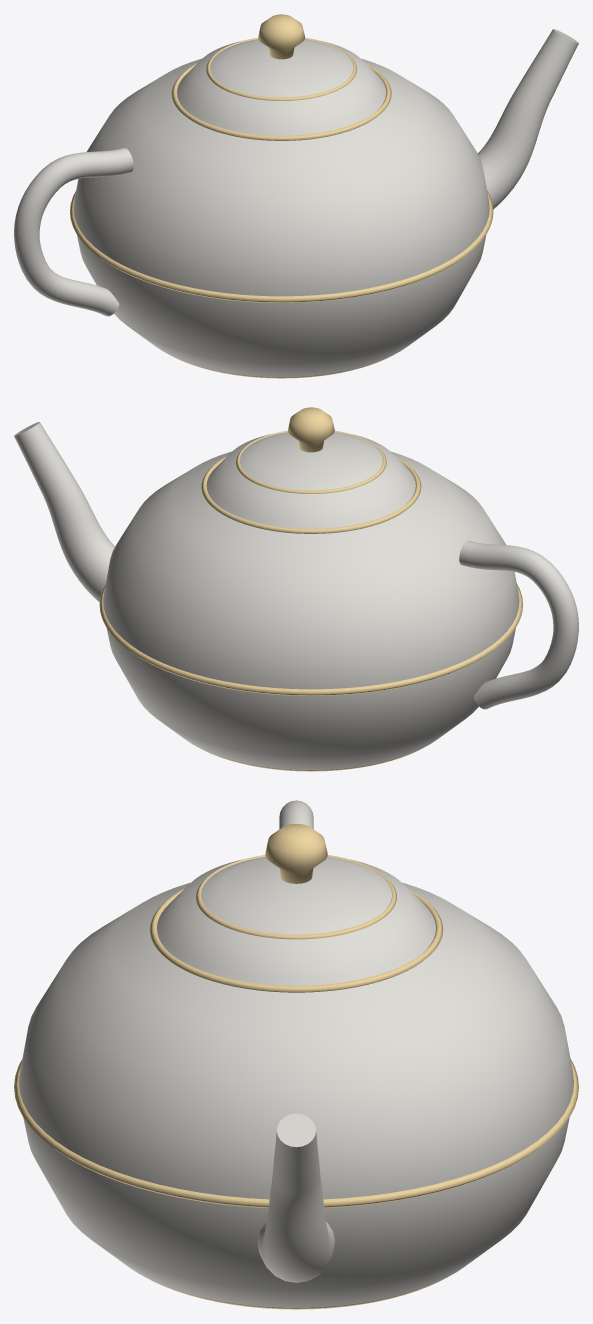
The model's file is teapot.glb.
The picture shows the model from 3 angles, top to bottom: view 1: azimuth 30°, elevation 25°; view 2: azimuth 150°, elevation 25°; view 3: azimuth 270°, elevation 25°; orthographic projection. The views are drawn at different scales.
Parts seen in each view (by area): view 1: Body, Lid, Handle, Spout, TrimBelly, TrimNeck, Knob, TrimLid; view 2: Body, Lid, Handle, Spout, TrimBelly, TrimNeck, Knob, TrimLid; view 3: Body, Lid, Spout, TrimBelly, TrimNeck, Knob, TrimLid, Handle.
Part boxes in pixels (x1,y1,x2,y2): Body: (73,58,489,377); Lid: (177,39,386,135); Handle: (14,147,133,316); Spout: (477,29,578,209); TrimBelly: (70,191,493,302); TrimNeck: (171,63,391,140); Knob: (258,14,304,59); TrimLid: (206,37,356,100); Body: (103,451,519,770); Lid: (206,432,415,528); Handle: (459,540,578,709); Spout: (14,422,115,602); TrimBelly: (99,584,522,695); TrimNeck: (201,456,421,533); Knob: (288,407,334,452); TrimLid: (236,430,386,493); Body: (19,882,573,1307); Lid: (157,857,435,985); Spout: (257,1113,335,1282); TrimBelly: (14,1059,578,1208); TrimNeck: (149,889,443,992); Knob: (265,824,327,883); TrimLid: (196,855,396,939); Handle: (279,800,313,829).
Size of the model in its own units: 2.76 by 1.43 by 1.81.
